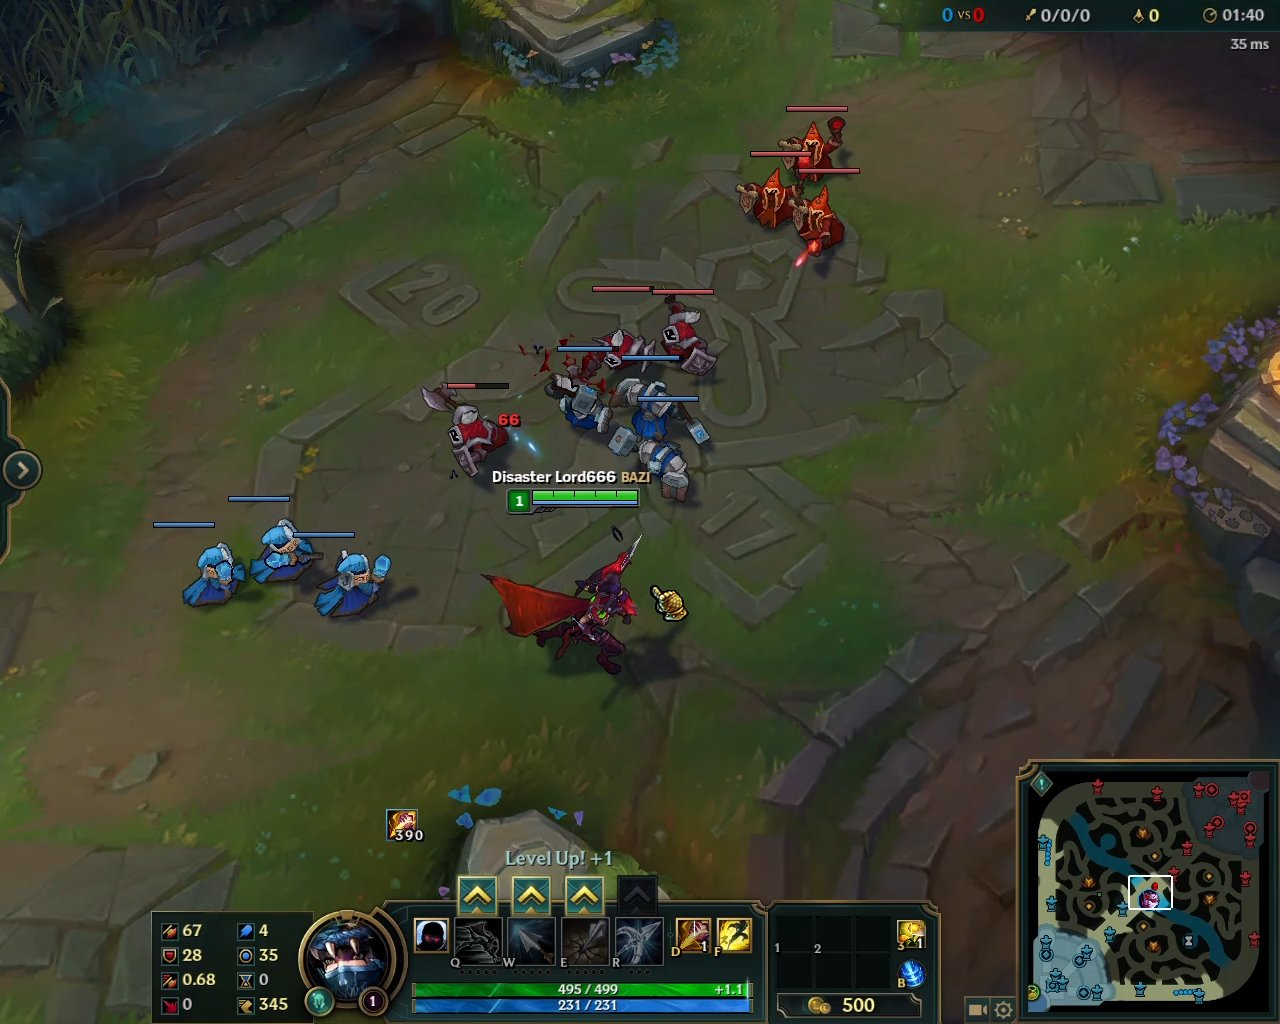EnemyMinion: (419, 379, 513, 478), (775, 101, 854, 188), (581, 284, 653, 377), (730, 152, 810, 231), (790, 168, 860, 256), (651, 286, 717, 379)
Vayne: (472, 532, 647, 691)
